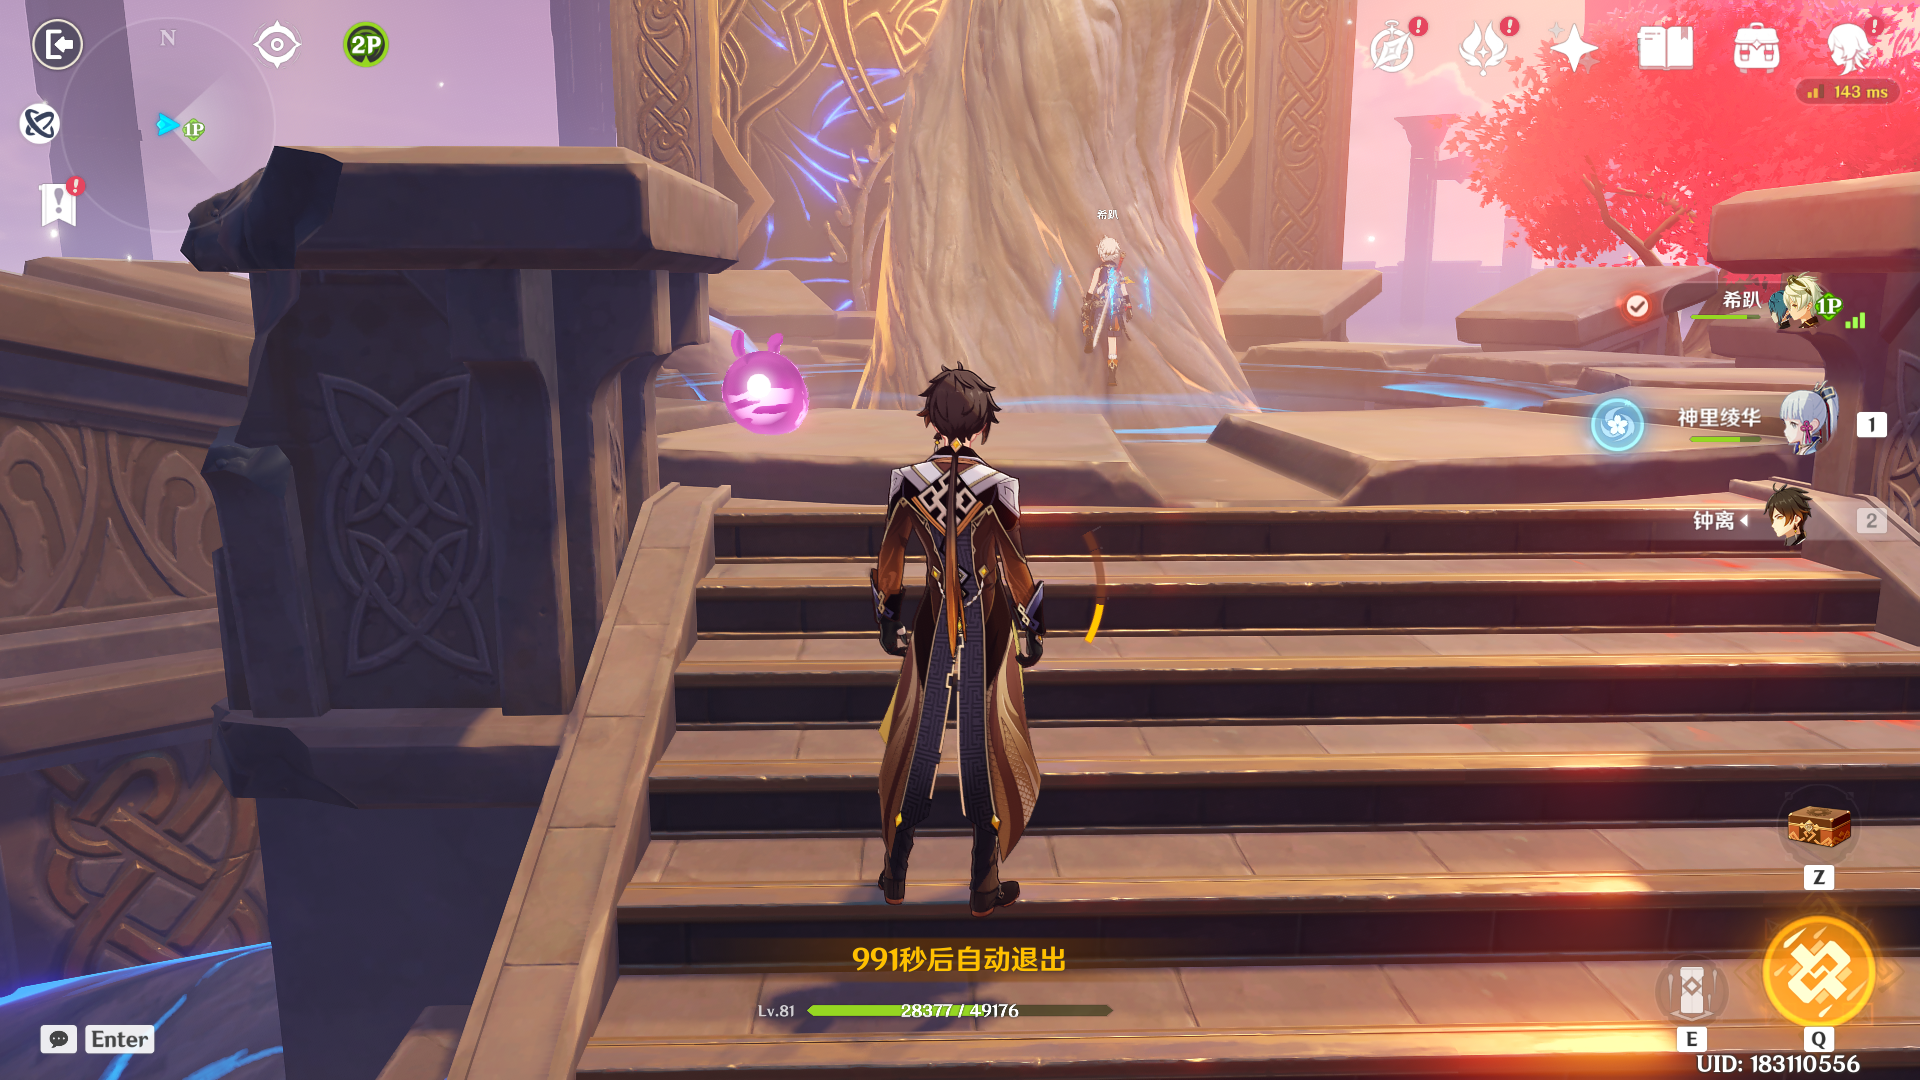character: (825, 344, 1075, 924), (1052, 224, 1180, 411)
